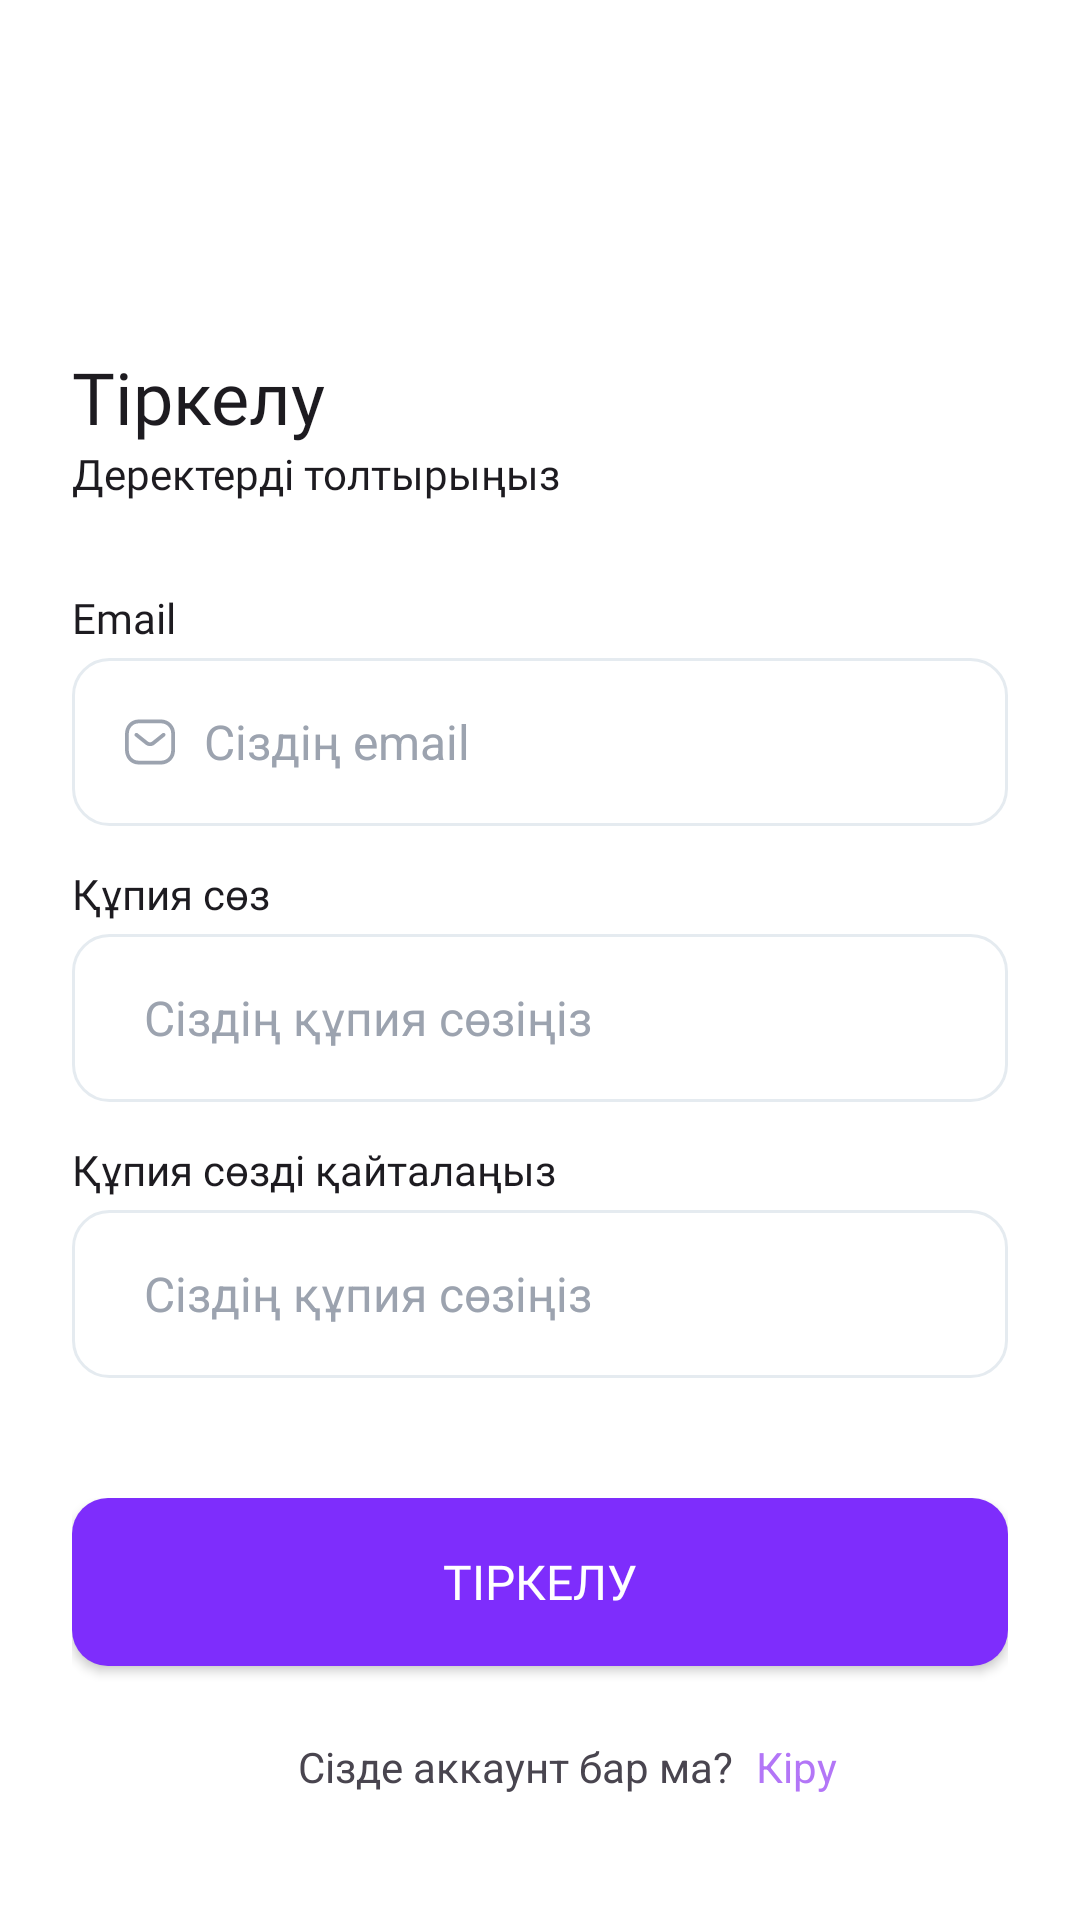

Screen size 1080 x 1920. Icon name, then its center in pixels as [x,y]:
vhod message: [150,742]
